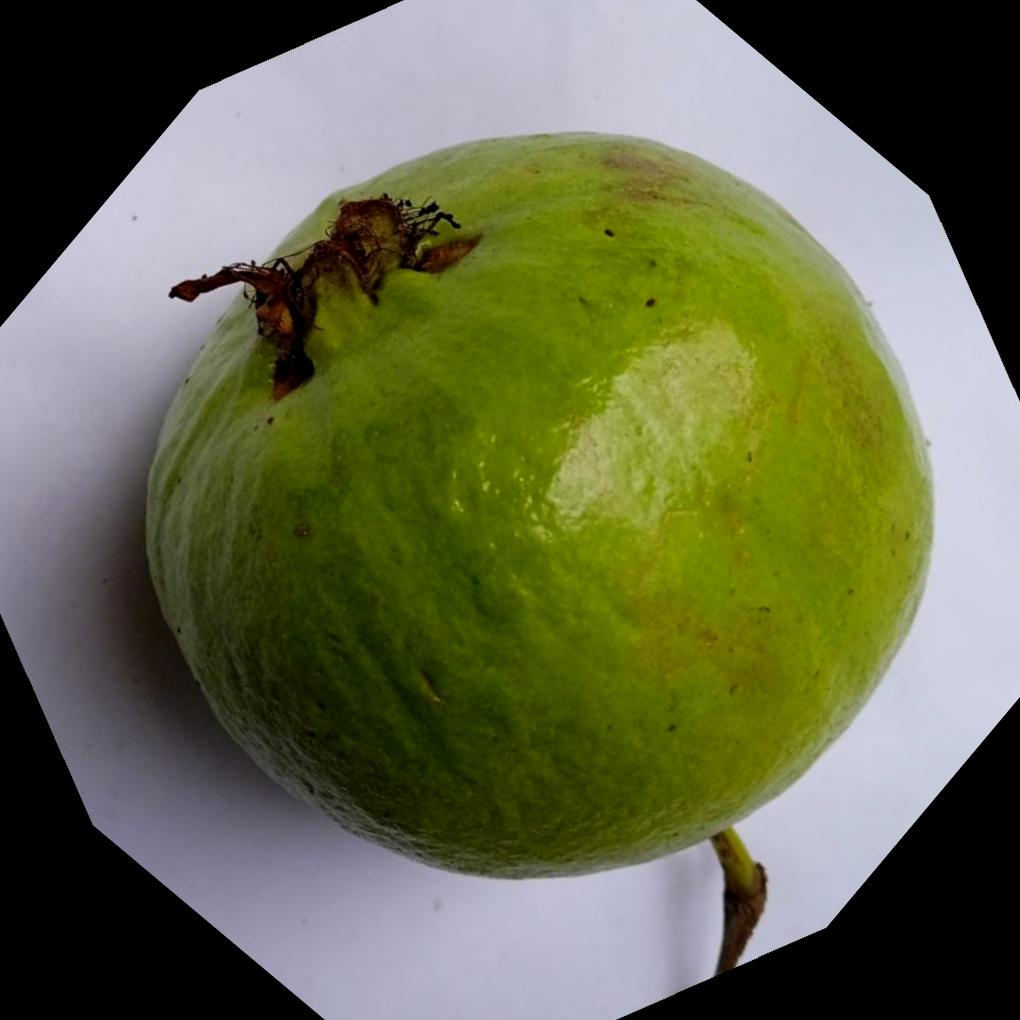FreshGuava: (137, 123, 935, 880)
